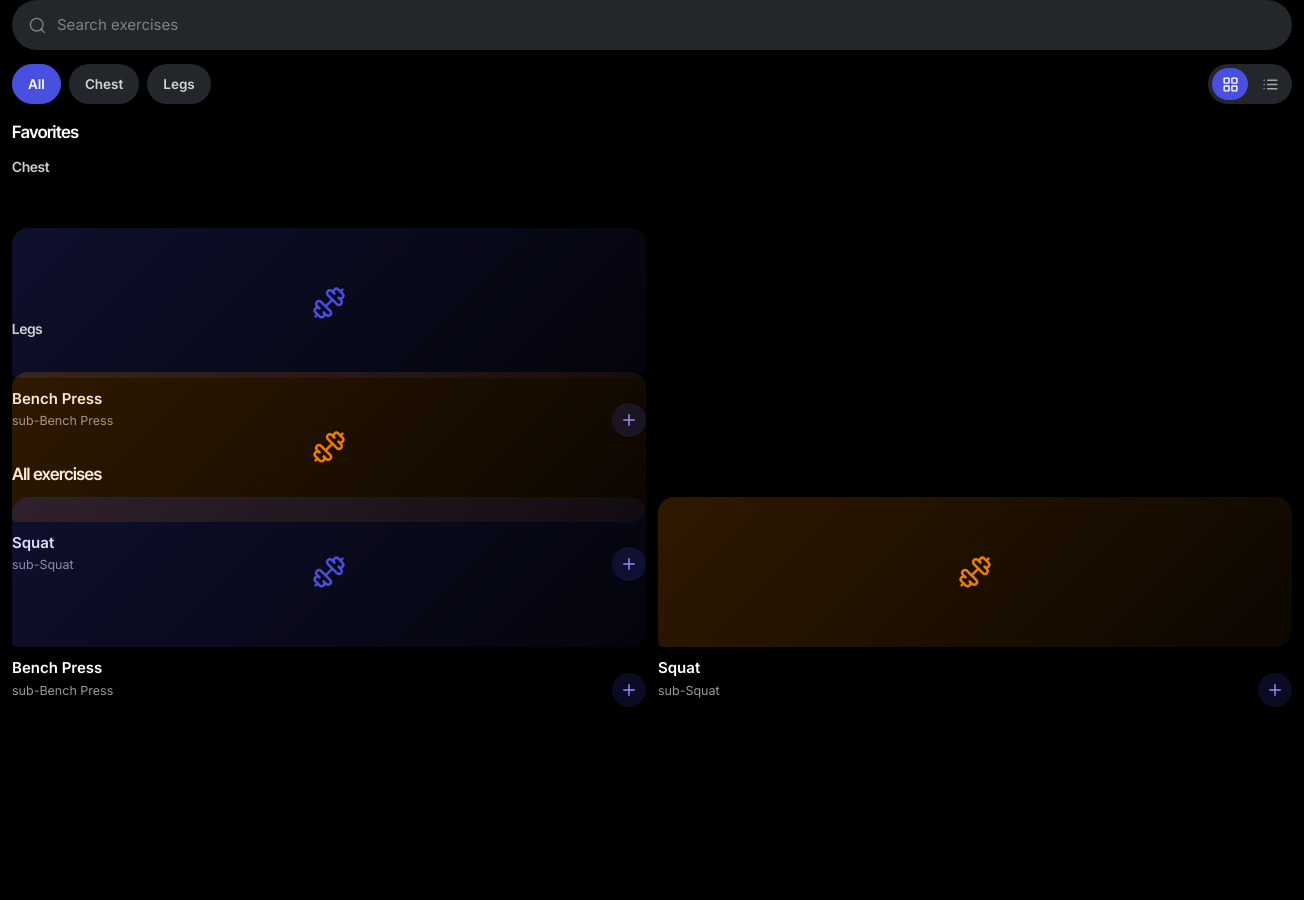
Test: ExercisePickerList › filters favorites with the same search and chips
Click the button "Legs" at [179, 84], box [147,64,211,104]
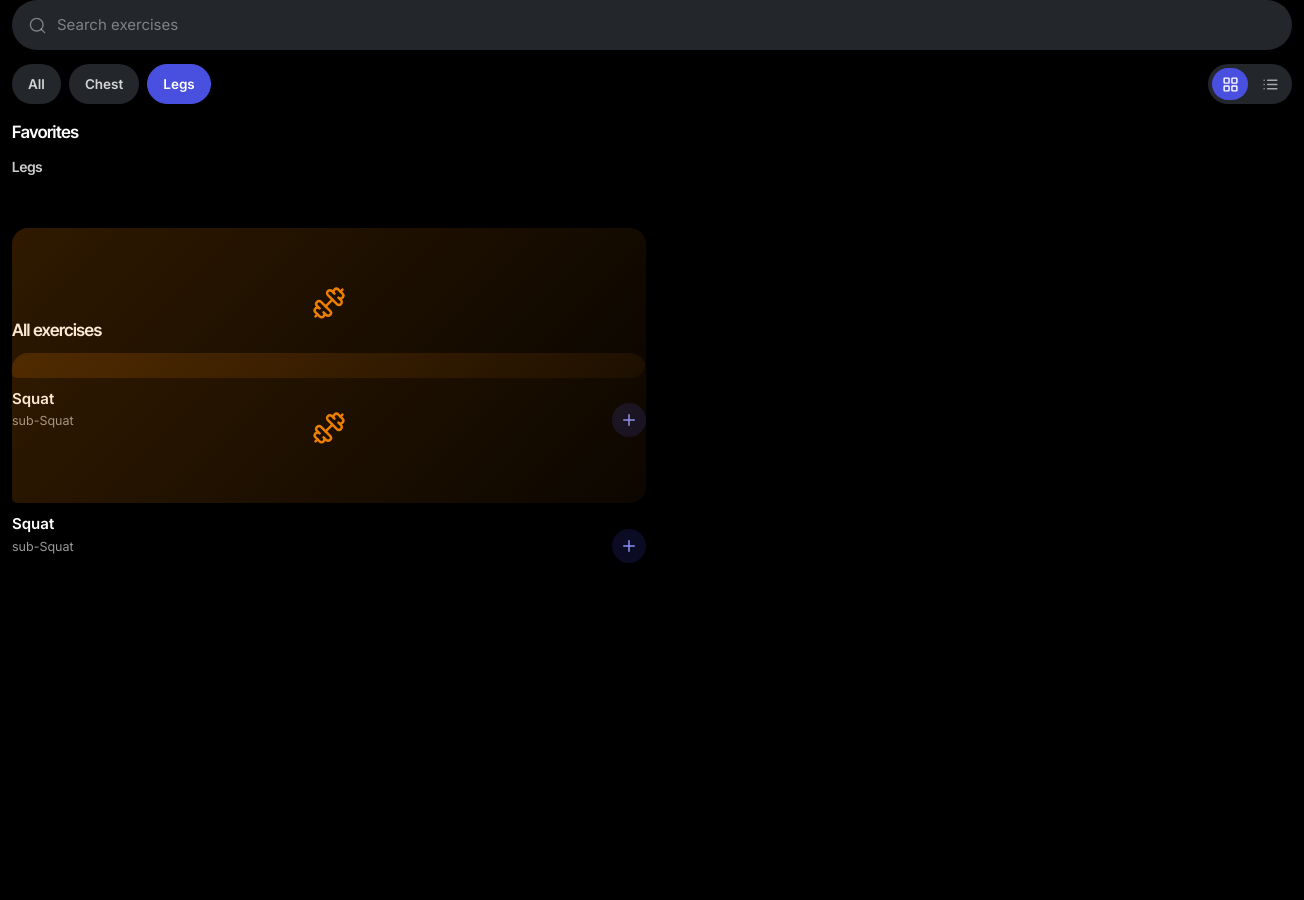
Check: the element "Favorites" shows "Squat", box [12,228,646,431]
Check: the button "Favorites" no longer shows "Bench Press"
Type "bench" into the search field with placeholder "Search exercises" at [666, 25], box [57,14,1276,36]
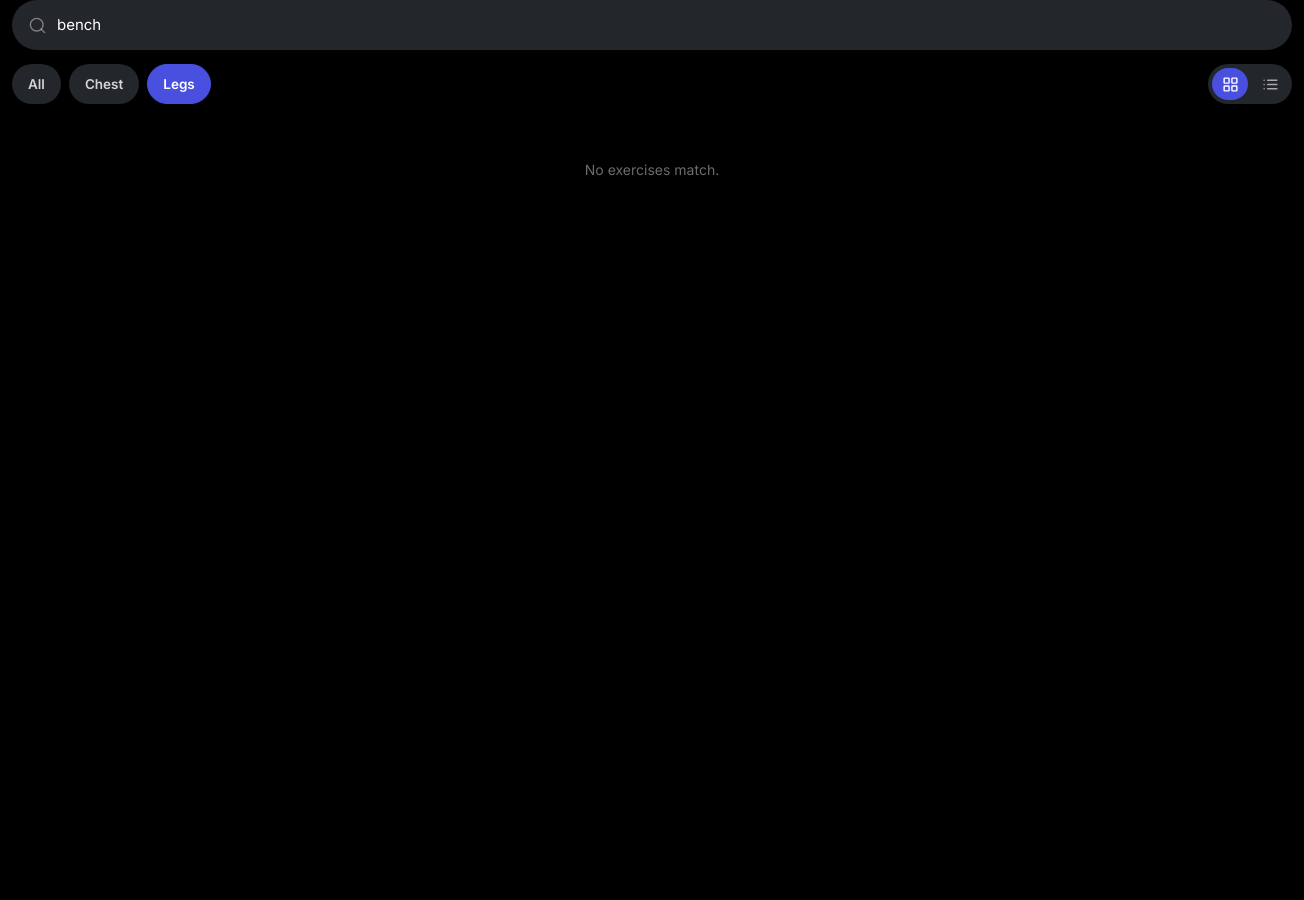
Check: the heading "Favorites" is gone
